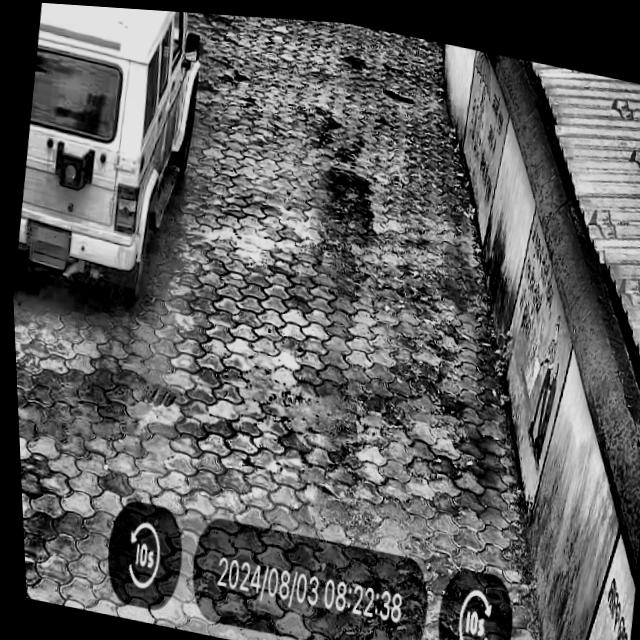light_vehicle: (2, 0, 213, 317)
